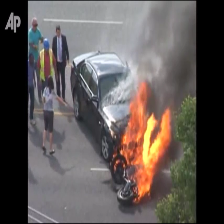fire_h: (120, 81, 172, 199)
fire_l: (114, 159, 125, 171), (110, 150, 118, 162)
